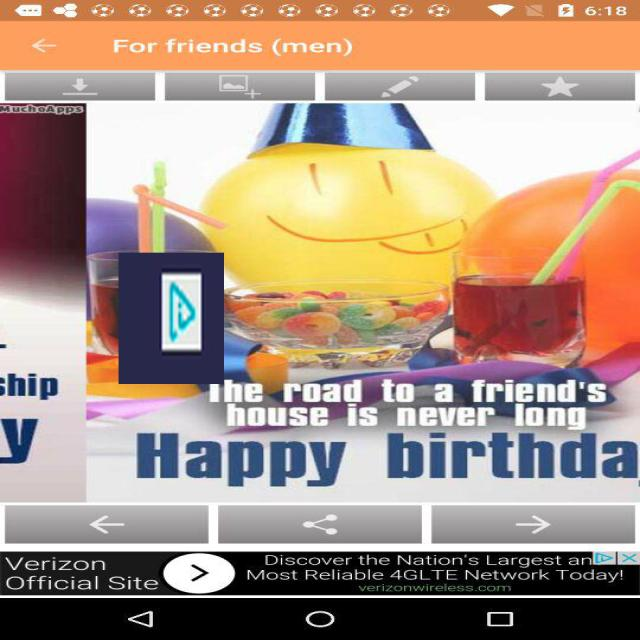sneaking: (119, 253, 224, 384)
